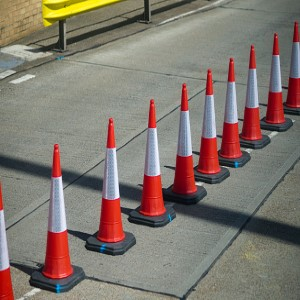traffic cone: (30, 144, 86, 294), (86, 118, 136, 256), (129, 100, 176, 229), (163, 83, 207, 205), (191, 69, 230, 185), (213, 57, 251, 169), (235, 45, 270, 150), (257, 33, 293, 133), (279, 21, 300, 115), (1, 181, 14, 300)
